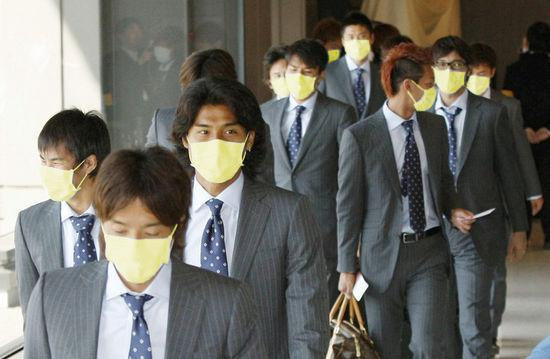OK: (104, 214, 175, 284), (190, 120, 246, 182), (35, 152, 86, 203), (395, 77, 436, 114), (287, 66, 322, 101), (435, 59, 466, 94), (273, 66, 302, 99), (344, 30, 371, 59), (467, 65, 494, 94)
